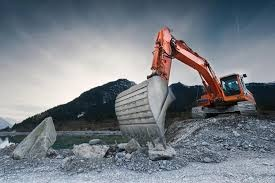excavator: (113, 25, 261, 147)
